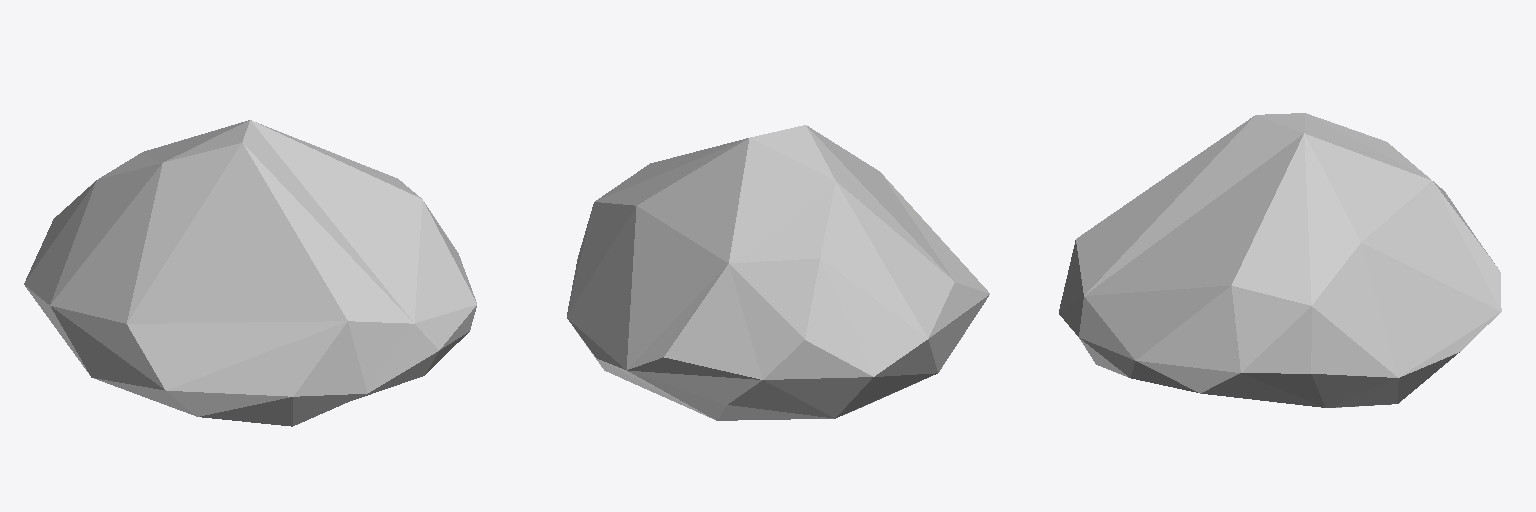
Rendered from Rock.obj.
The picture shows the model from 3 angles: view 1: azimuth 30°, elevation 25°; view 2: azimuth 150°, elevation 25°; view 3: azimuth 270°, elevation 25°; orthographic projection.
Parts seen in each view (by area): view 1: Rock; view 2: Rock; view 3: Rock.
Boxes of the visible parts, x1=… form: Rock: x1=24, y1=120, x2=476, y2=426; Rock: x1=567, y1=125, x2=989, y2=420; Rock: x1=1059, y1=113, x2=1501, y2=407.
Size of the model in its own units: 5.72 by 3.84 by 5.99.